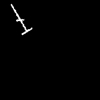double_crochet: (11, 4, 31, 34)
